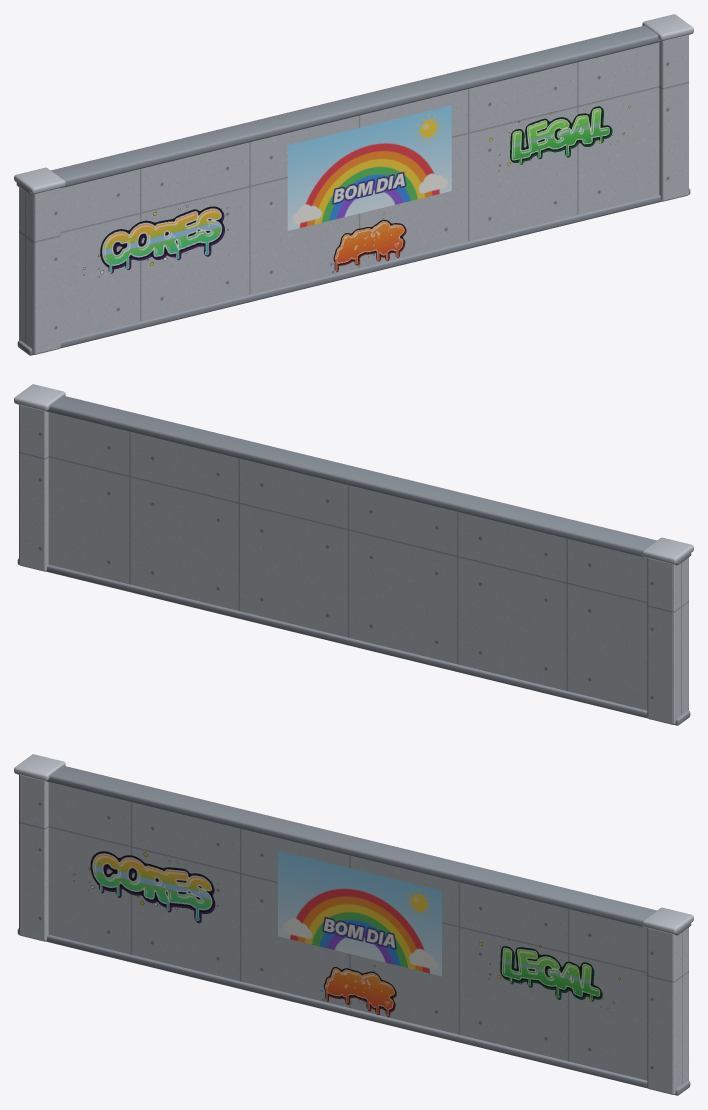
File: muro_concreto_cores.glb
The picture shows the model from 3 angles, top to bottom: view 1: azimuth 30°, elevation 25°; view 2: azimuth 150°, elevation 25°; view 3: azimuth 330°, elevation 25°; orthographic projection.
Visible parts, largest first — view 1: muro_concreto_cores; view 2: muro_concreto_cores; view 3: muro_concreto_cores.
Part boxes in pixels (x1,y1,x2,y2): muro_concreto_cores: [14, 14, 693, 355]; muro_concreto_cores: [14, 384, 693, 725]; muro_concreto_cores: [14, 754, 693, 1095].
Bounding box in the file's own units: 12.12 × 2.98 × 0.62.
6 materials, 6 textured.
